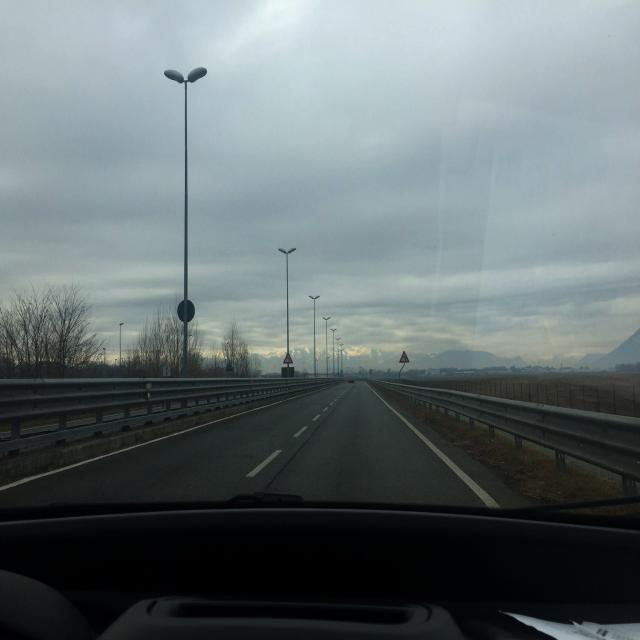car: (348, 376, 354, 384)
